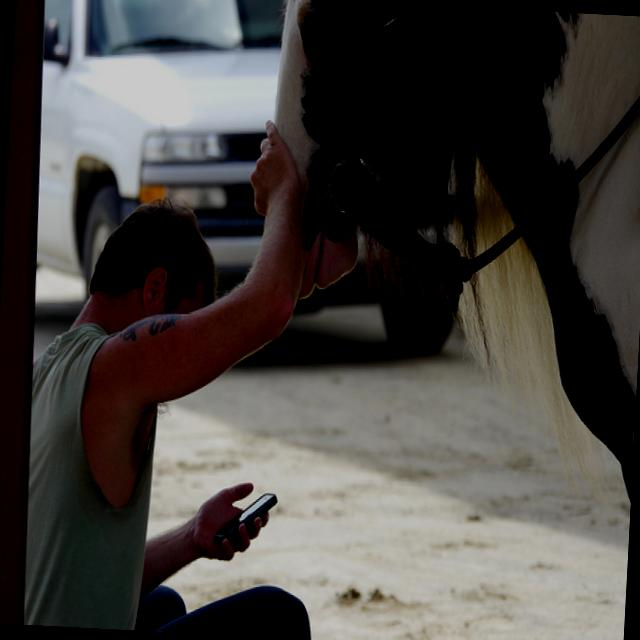Vehicle: (28, 0, 473, 365)
